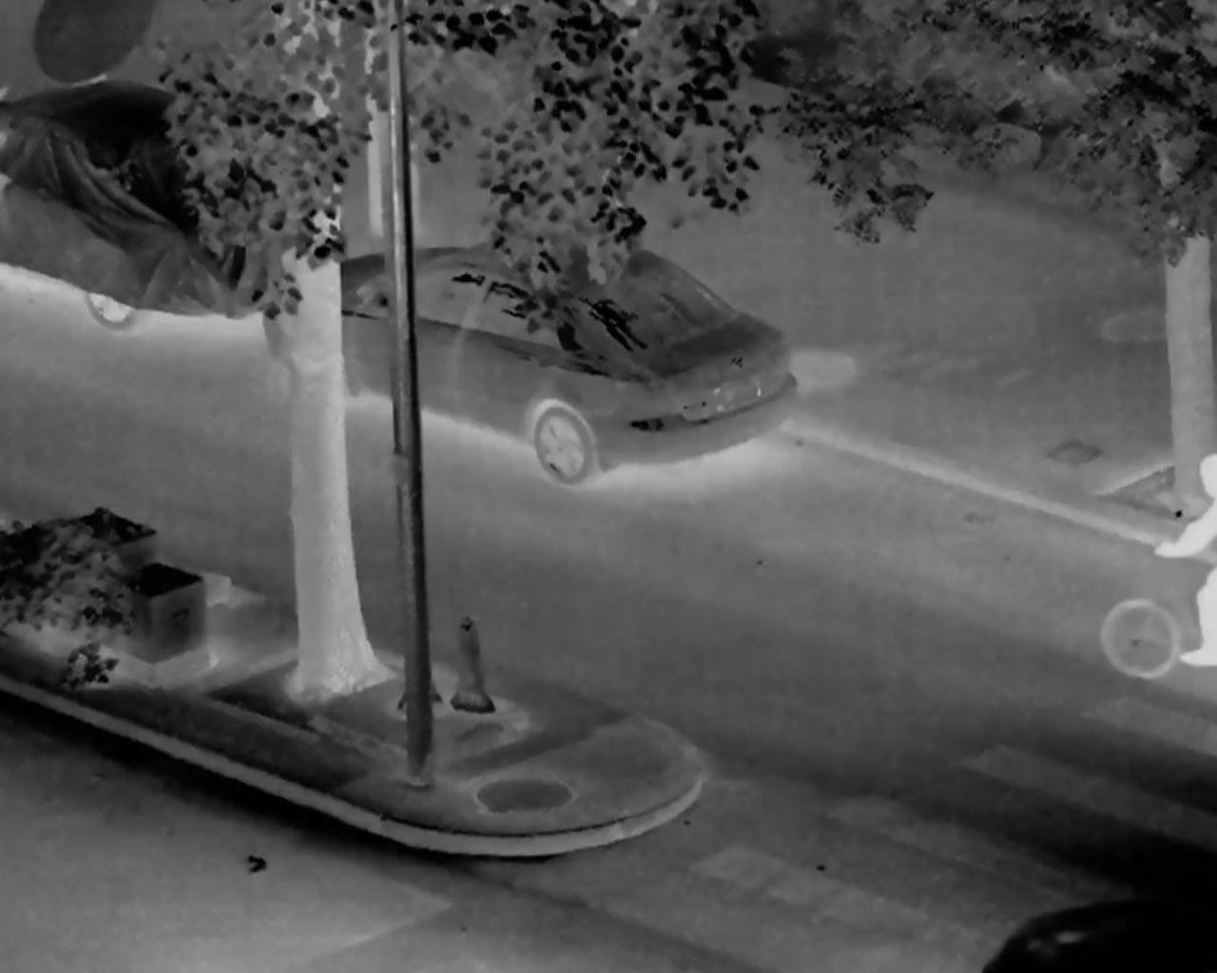person: (1157, 449, 1217, 670)
